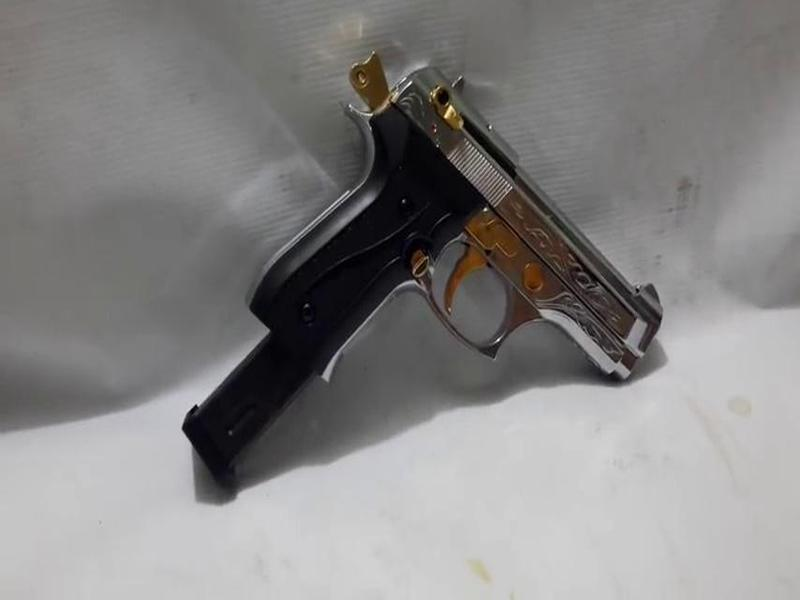Pistola: (264, 35, 654, 420)
